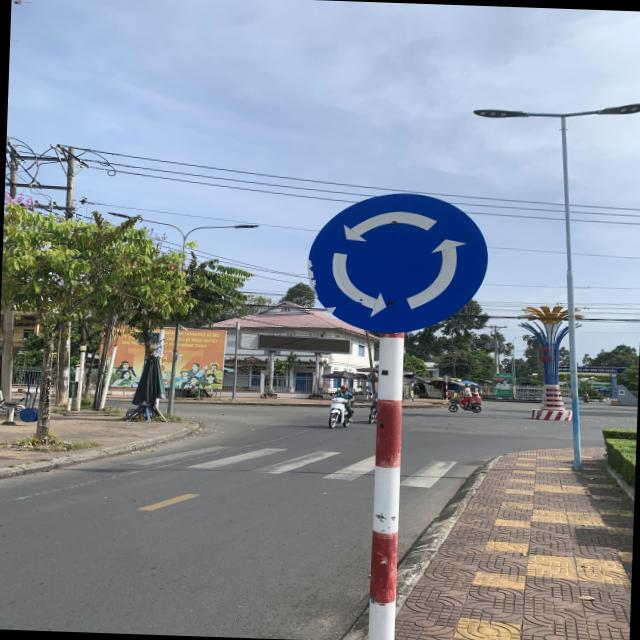Xe_Bus: (306, 190, 489, 336)
